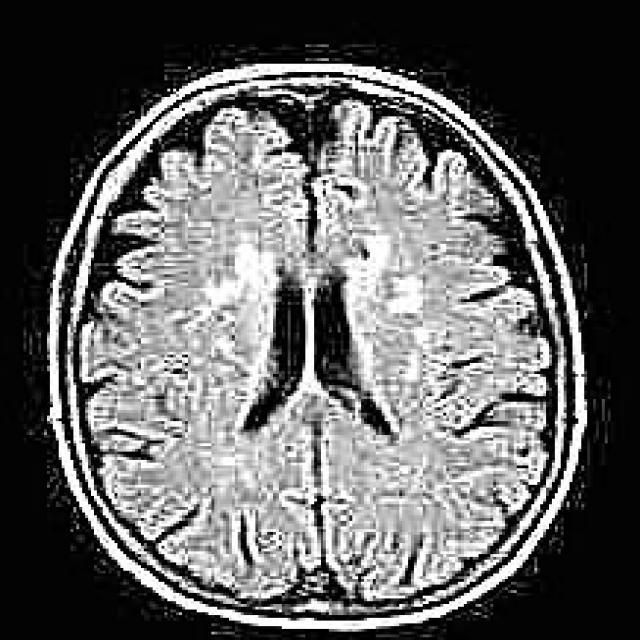notumor: (47, 64, 584, 629)
